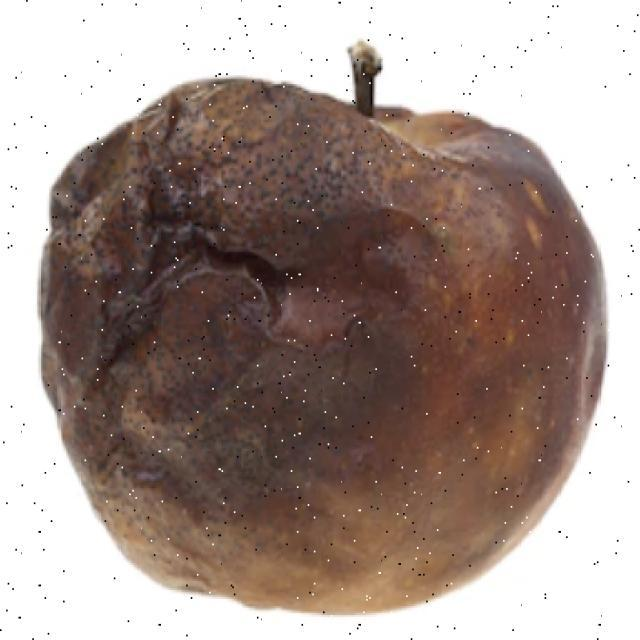Rotten: (53, 75, 610, 603)
